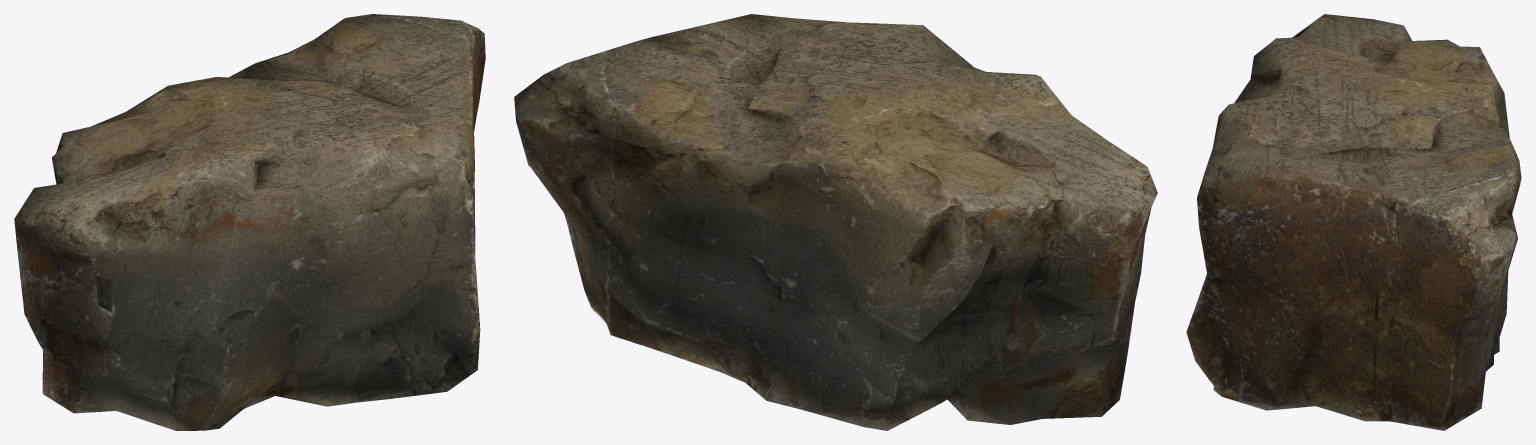
File: rock_23.obj
The picture shows the model from 3 angles, left to right: view 1: azimuth 30°, elevation 25°; view 2: azimuth 150°, elevation 25°; view 3: azimuth 270°, elevation 25°; orthographic projection. The views are drawn at different scales.
Parts seen in each view (by area): view 1: rock23_lr; view 2: rock23_lr; view 3: rock23_lr.
Boxes of the visible parts, x1,y1,x2,y2 form: rock23_lr: [14, 14, 485, 430]; rock23_lr: [514, 14, 1157, 430]; rock23_lr: [1186, 14, 1521, 430].
Size of the model in its own units: 43.33 by 20.59 by 24.07.
